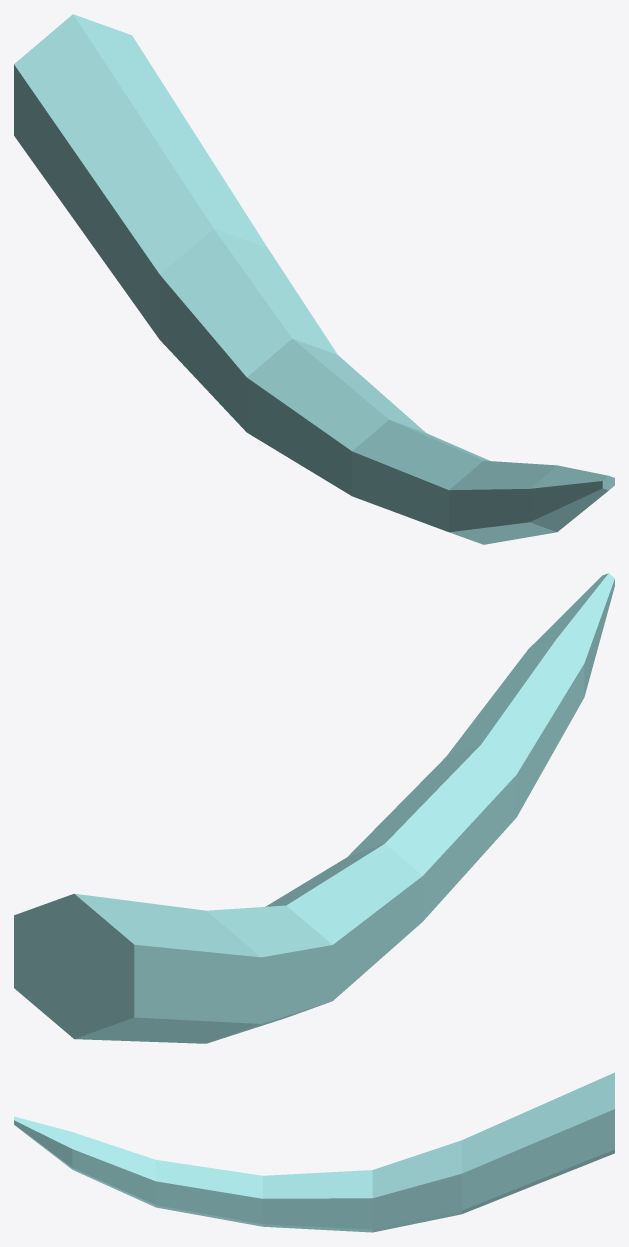
File: Ice6.fbx
3 views of the same model, one above another, from view 1: azimuth 30°, elevation 25°; view 2: azimuth 150°, elevation 25°; view 3: azimuth 270°, elevation 25° (orthographic). The views are drawn at different scales.
Visible parts, largest first — view 1: Peak; view 2: Peak; view 3: Peak.
Part boxes in pixels (x1,y1,x2,y2): Peak: (14,14,614,544); Peak: (14,573,614,1043); Peak: (14,1072,614,1232).
Size of the model in its own units: 91.29 by 206 by 706.
